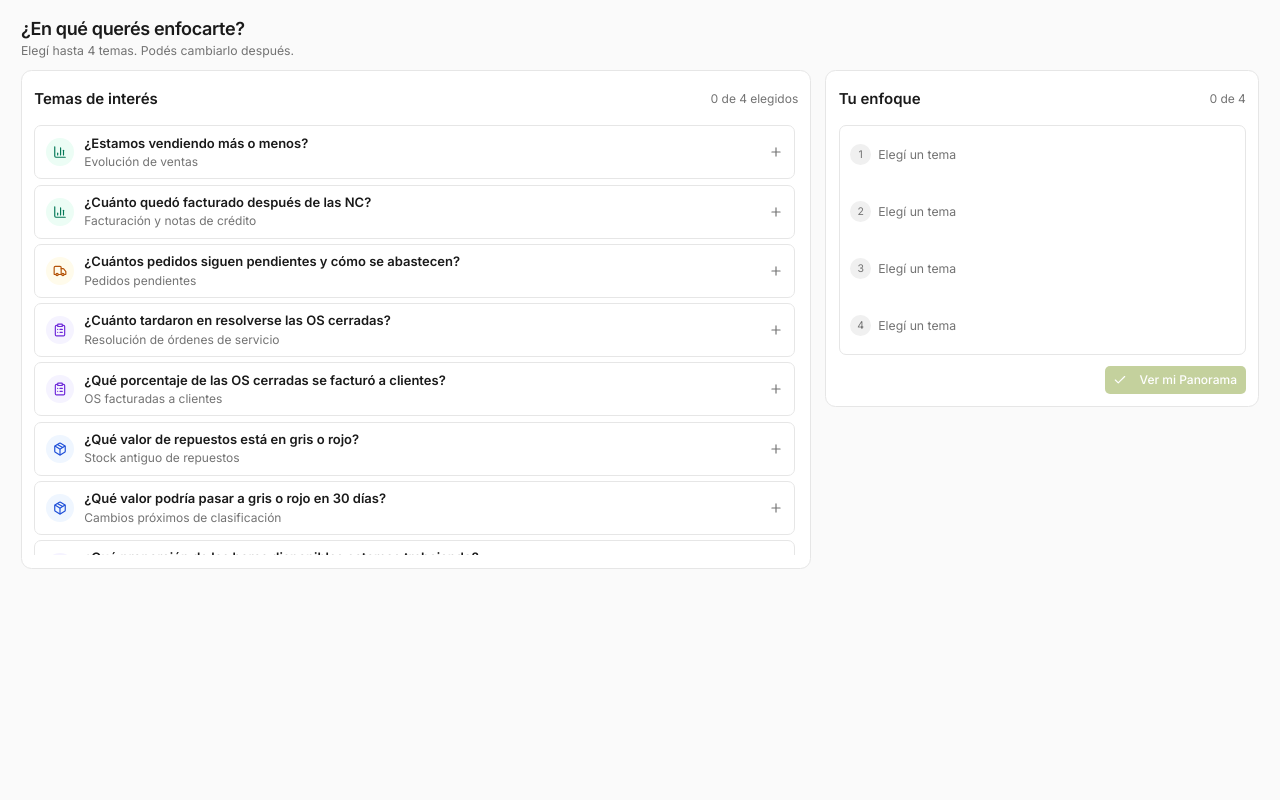
Campi Panorama configuration › shows each topic once when adding or removing it
What coordinates should you click on to do the following:
click the button with aria-label "OS facturadas a clientes"
I would click on:
 (415, 389)
Its box is [34, 362, 795, 416].
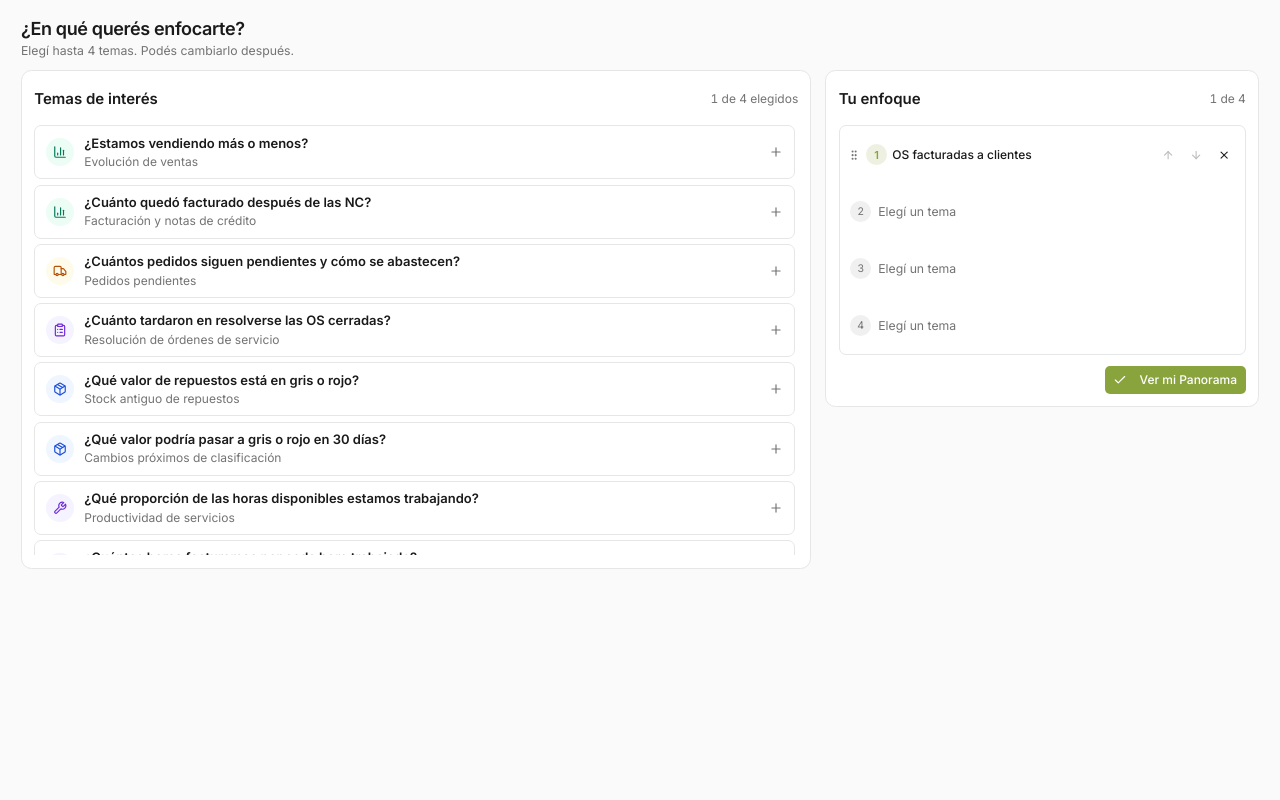
What coordinates should you click on to do the following:
click the button named "Quitar OS facturadas a clientes"
I would click on:
 (1225, 155)
Its box is [1213, 143, 1236, 166].
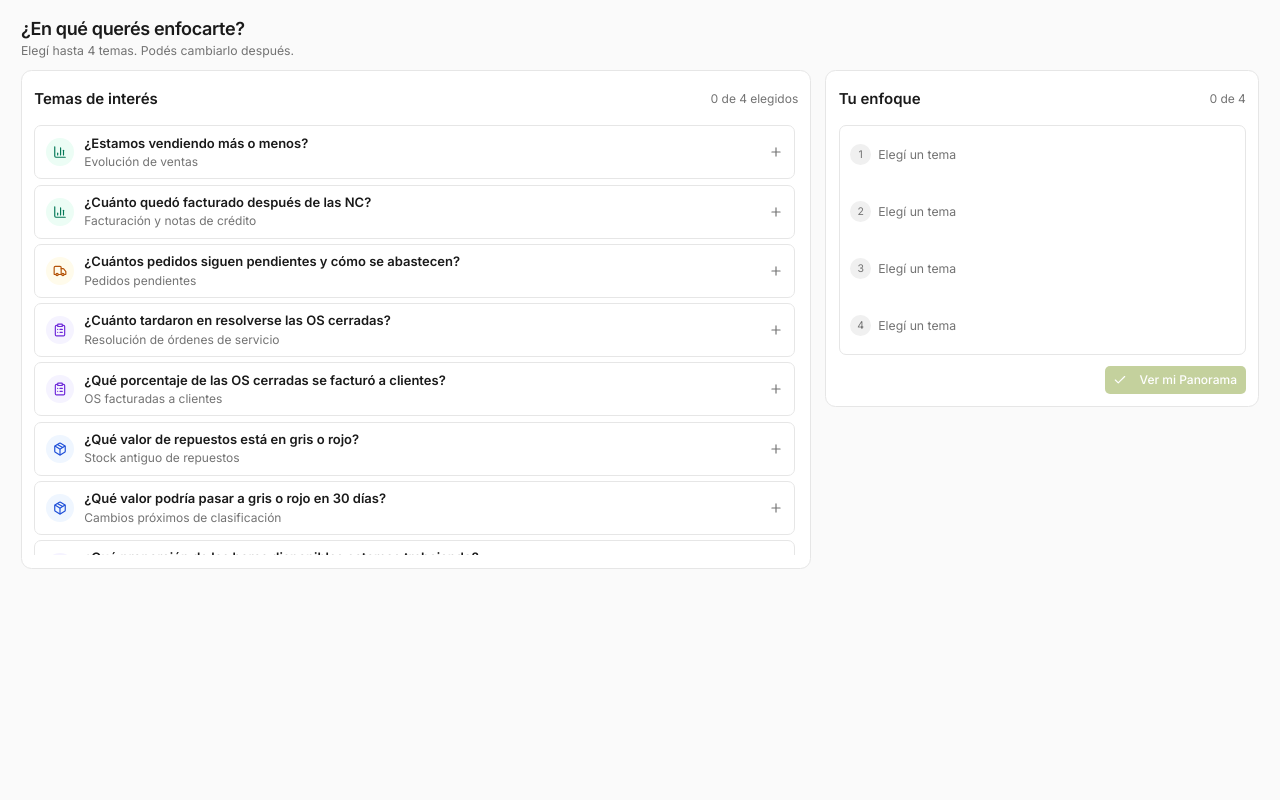
Expected: the button with aria-label "OS facturadas a clientes" is shown, [34, 362, 795, 416]
